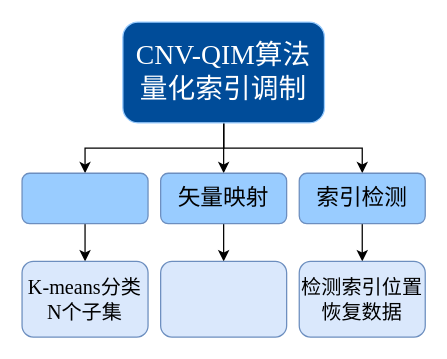
This 447x359 diagram has some shape labels left out. The centre of each missing label's shape, as x and y in pixels:
"码本划分" belongs at pixel 84 198.
"选择量化区间嵌入信息" belongs at pixel 223 298.
